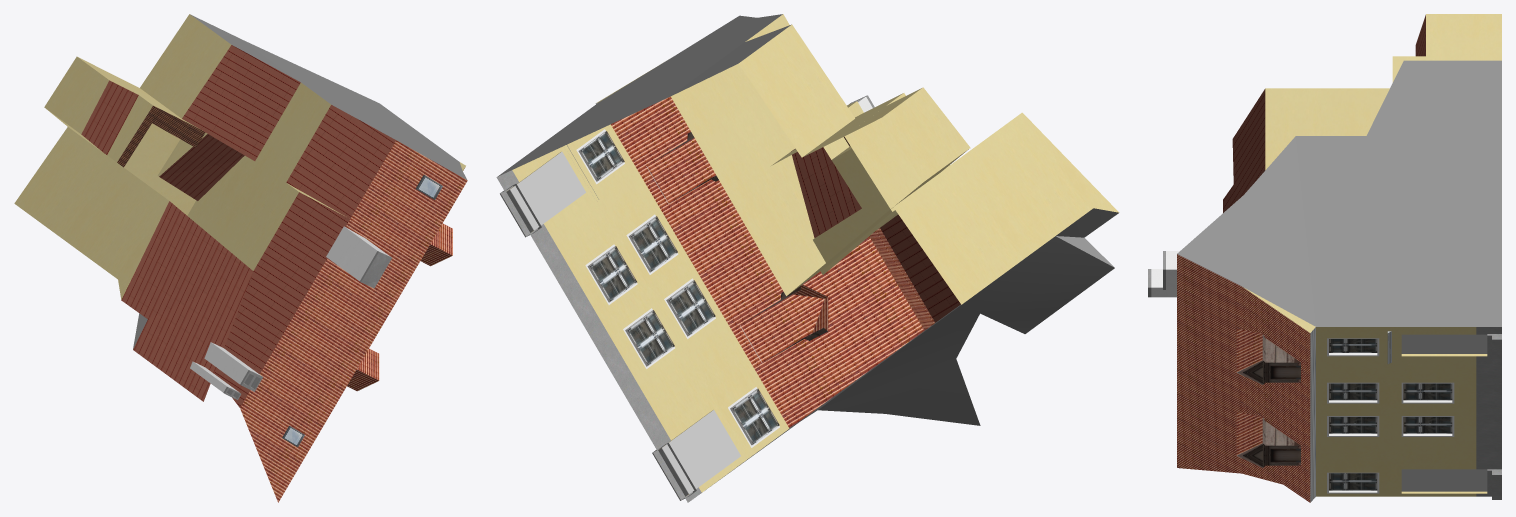
Rendered from Lai_35.obj.
3 renders of one model, left to right at view 1: azimuth 30°, elevation 25°; view 2: azimuth 150°, elevation 25°; view 3: azimuth 270°, elevation 25°, orthographic. The views are drawn at different scales.
Visible parts, largest first — view 1: Lai_35; view 2: Lai_35; view 3: Lai_35.
Part boxes in pixels (left/top/right/bottom): Lai_35: left=14, top=14, right=467, bottom=502; Lai_35: left=496, top=14, right=1119, bottom=502; Lai_35: left=1148, top=14, right=1501, bottom=502.
Bounding box in the file's own units: 20.58 × 19.46 × 14.31.
